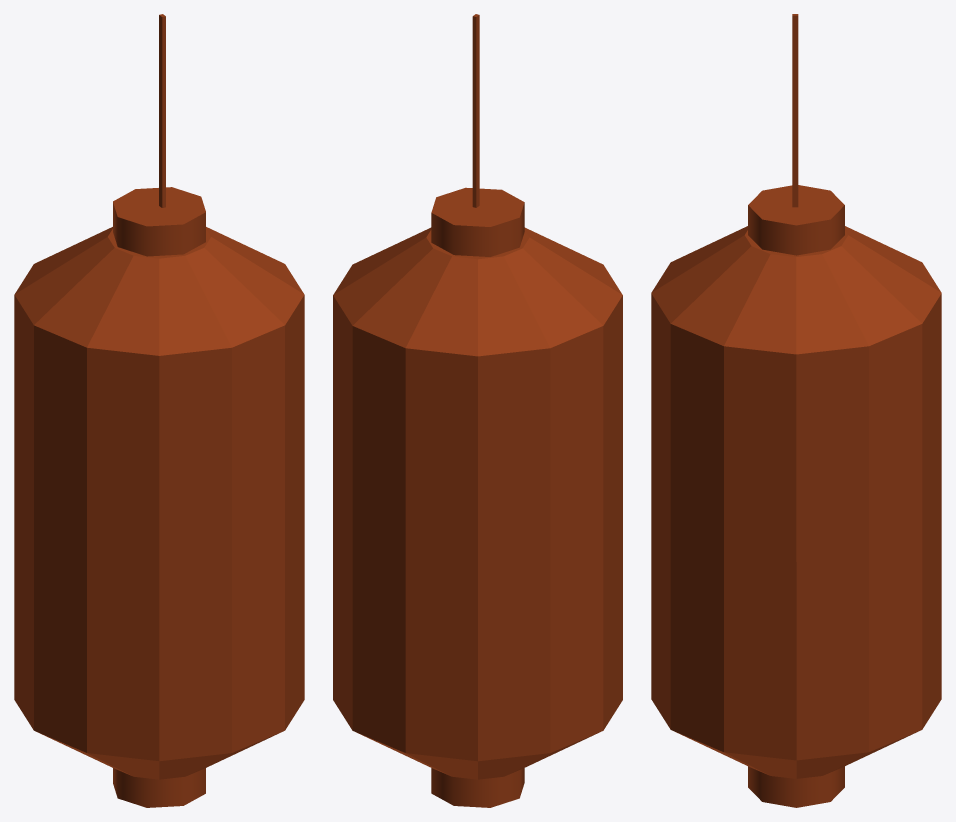
Rendered from SM_lantern_japanese_03.fbx.
3 renders of one model, left to right at view 1: azimuth 30°, elevation 25°; view 2: azimuth 150°, elevation 25°; view 3: azimuth 270°, elevation 25°, orthographic.
Parts seen in each view (by area): view 1: Cylinder029; view 2: Cylinder029; view 3: Cylinder029.
Boxes of the visible parts, bbox=[...] form: Cylinder029: bbox=[14, 14, 304, 807]; Cylinder029: bbox=[333, 14, 622, 807]; Cylinder029: bbox=[651, 14, 941, 807].
Bounding box in the file's own units: 14.31 × 14.31 × 42.05.
